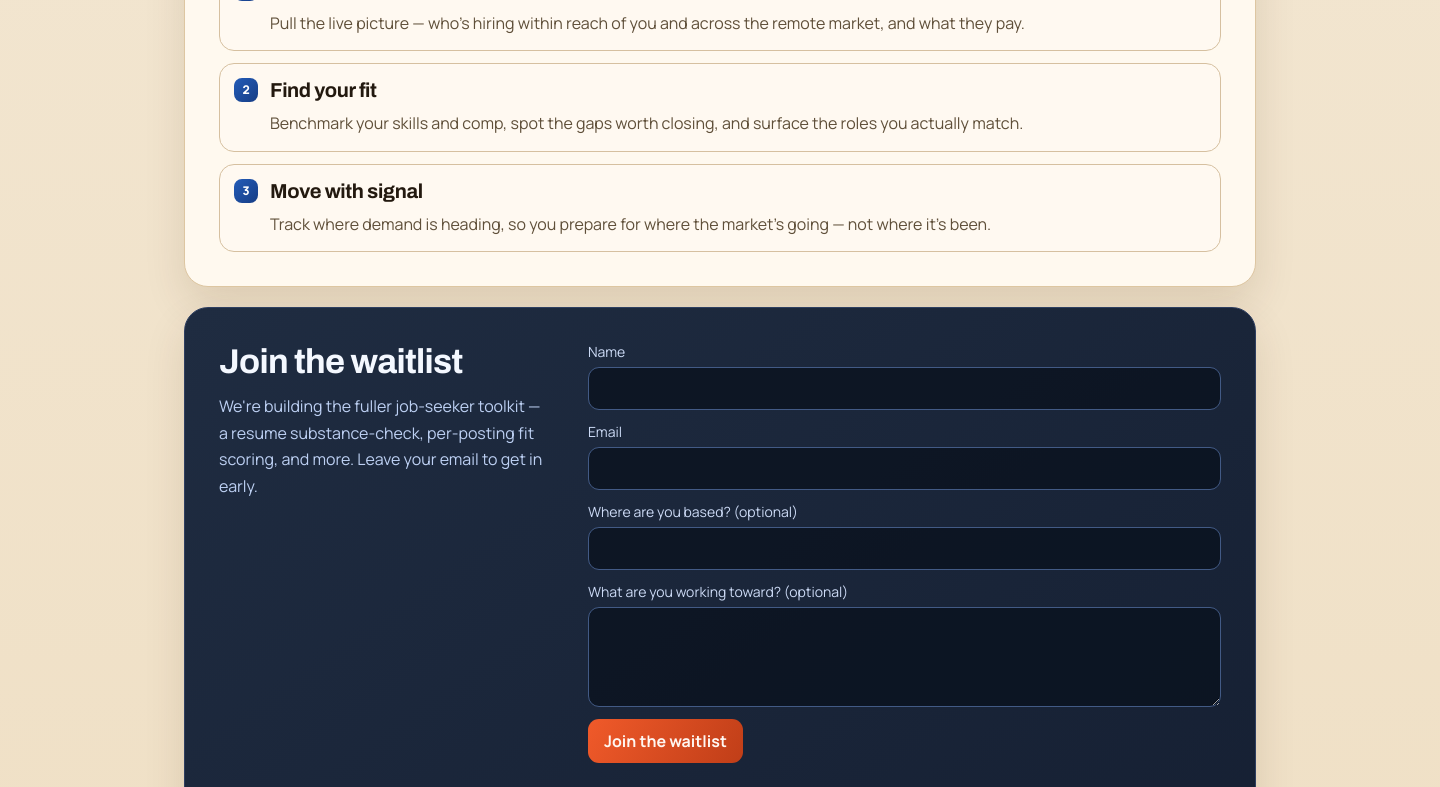
Test case: App › lead form submission › shows submitting state while request is in flight
The width and height of the screenshot is (1440, 787).
(page scrolled)
Type "Jane" into the field labelled "Name". click: x=904, y=389
box: [588,367,1221,410]
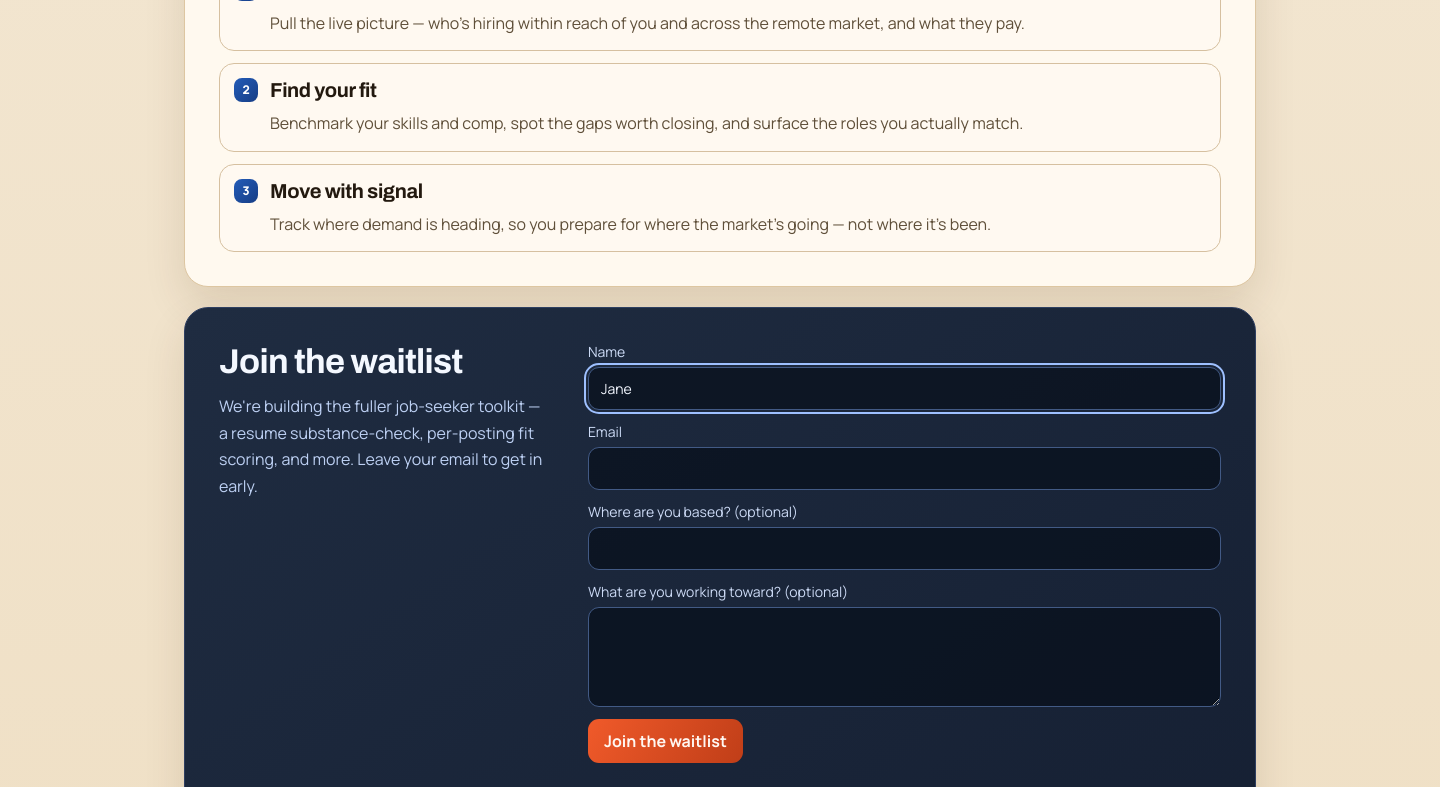
Type "jane@co.com" into the field labelled "Email". click: x=904, y=469
box: [588,447,1221,490]
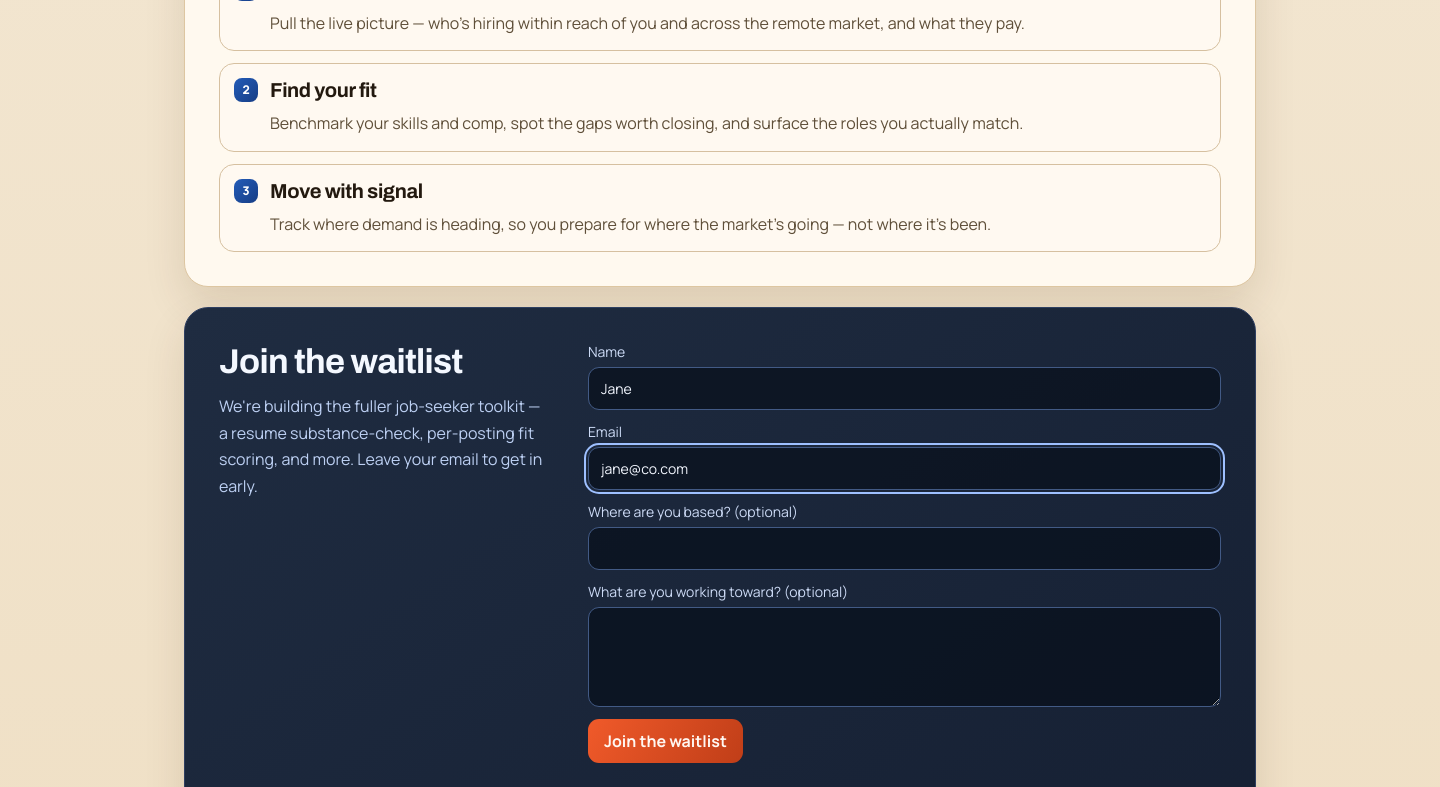
Click the button "Join the waitlist". click: x=665, y=741
box: [588,719,743,763]
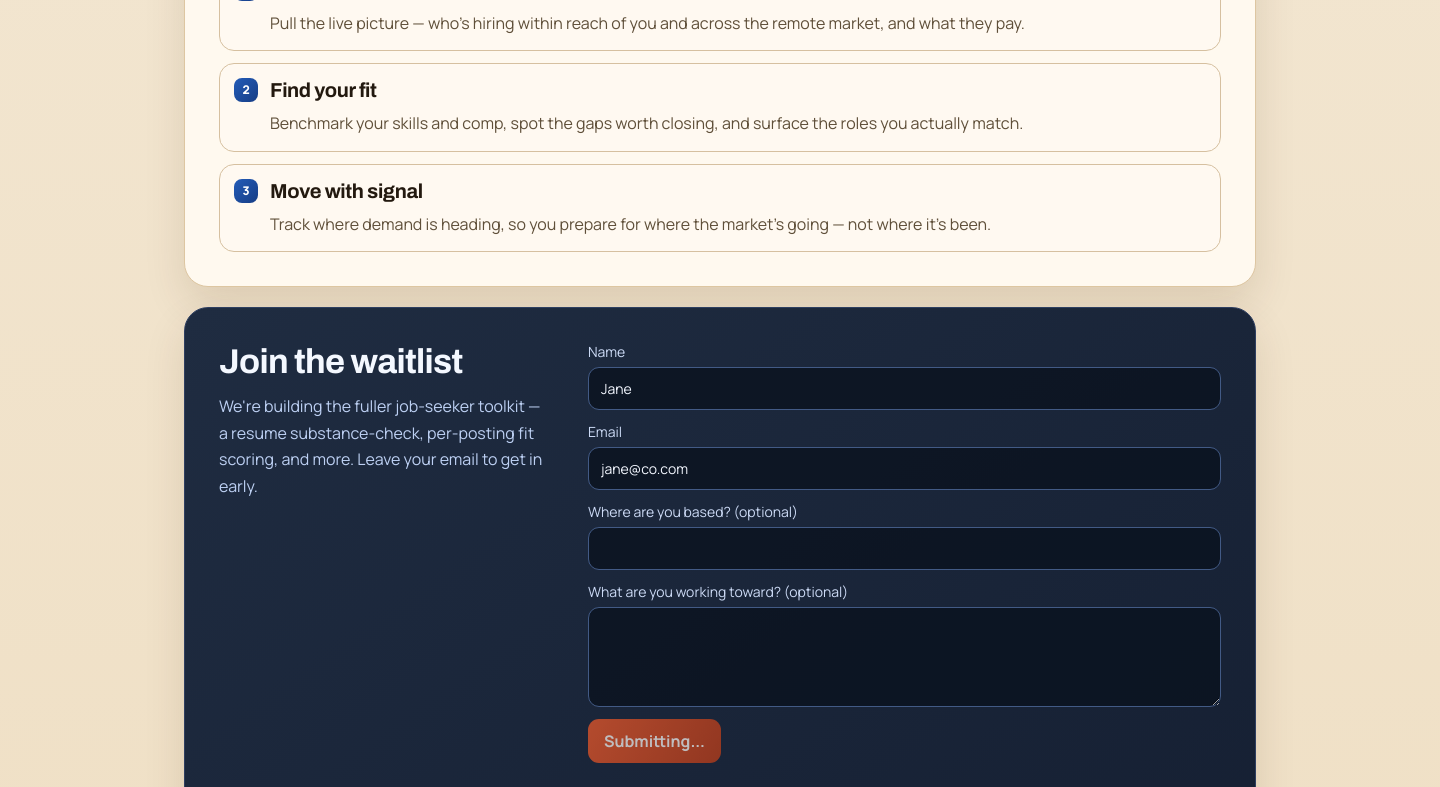
Expected: the button "Submitting..." is disabled, [588,719,721,763]
